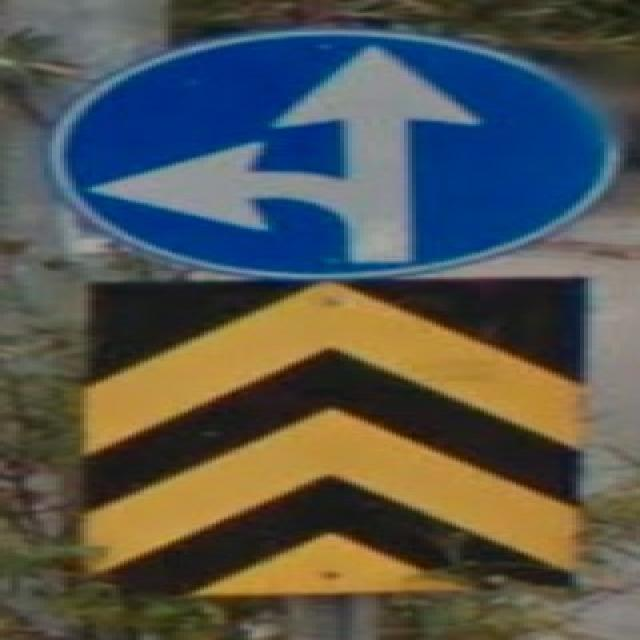Straight or Left: (51, 29, 619, 279)
